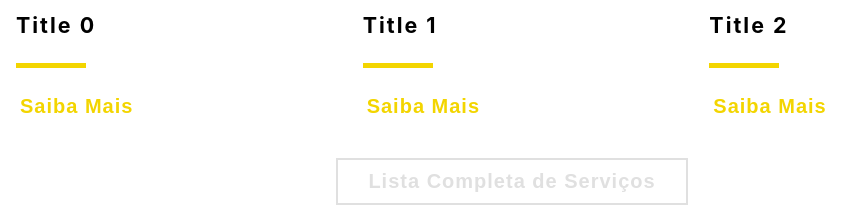
Test: with 3 products show only 3 items › show all the products when button is clicked
The image size is (847, 222).
What coordinates should you click on to do the following:
click the button "Lista Completa de Serviços"
I would click on:
 (512, 182)
Its box is left=336, top=158, right=688, bottom=205.
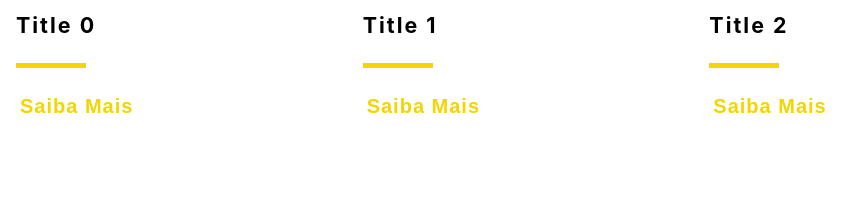
Check: the number of buttons is 3, box left=16, top=91, right=137, bottom=122; left=363, top=91, right=484, bottom=122; left=709, top=91, right=831, bottom=122
